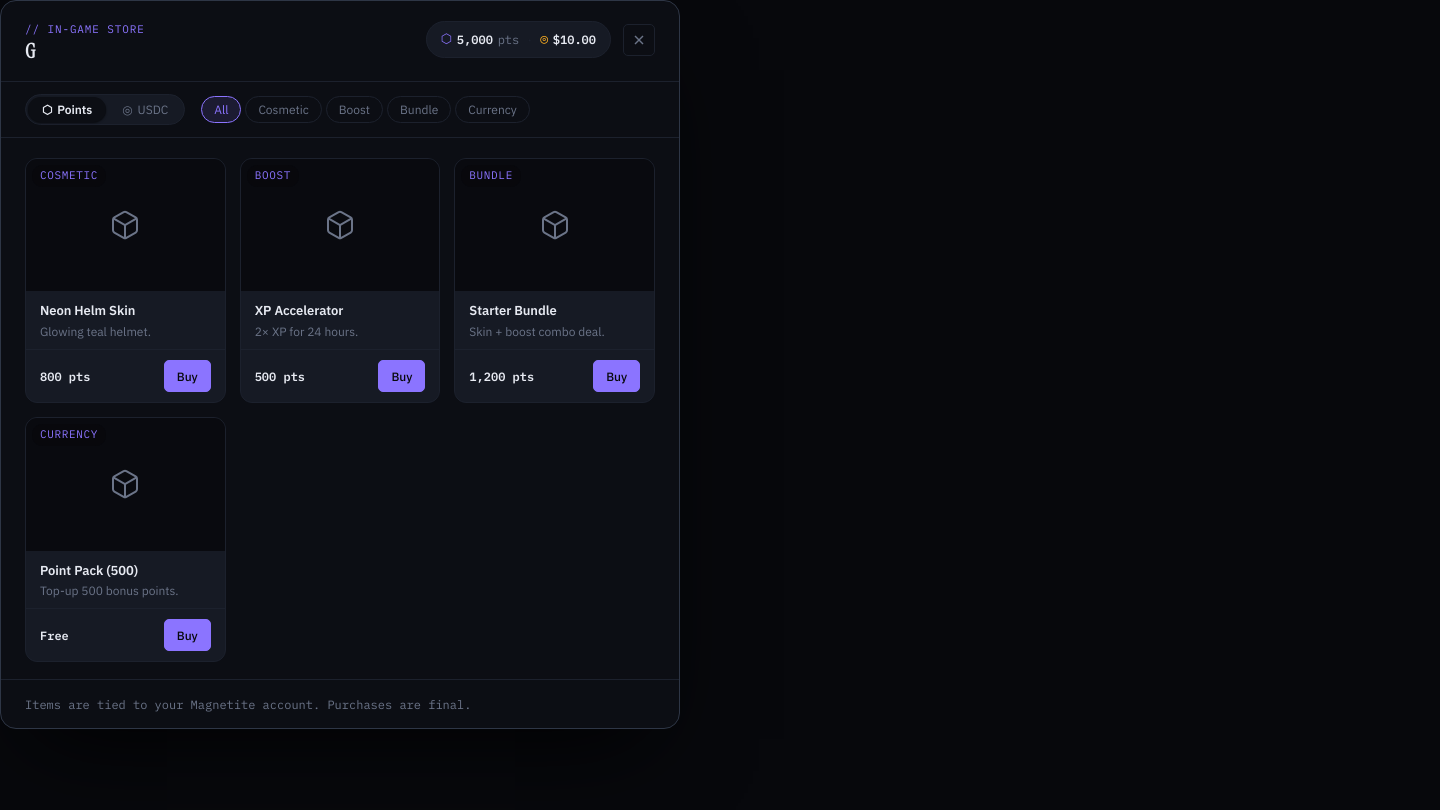
Test: InGameStore › shows all items when "All" filter is selected
Filter to boost first, then reset
Click the button "Boost". click: (354, 110)
box: [326,96,383,123]
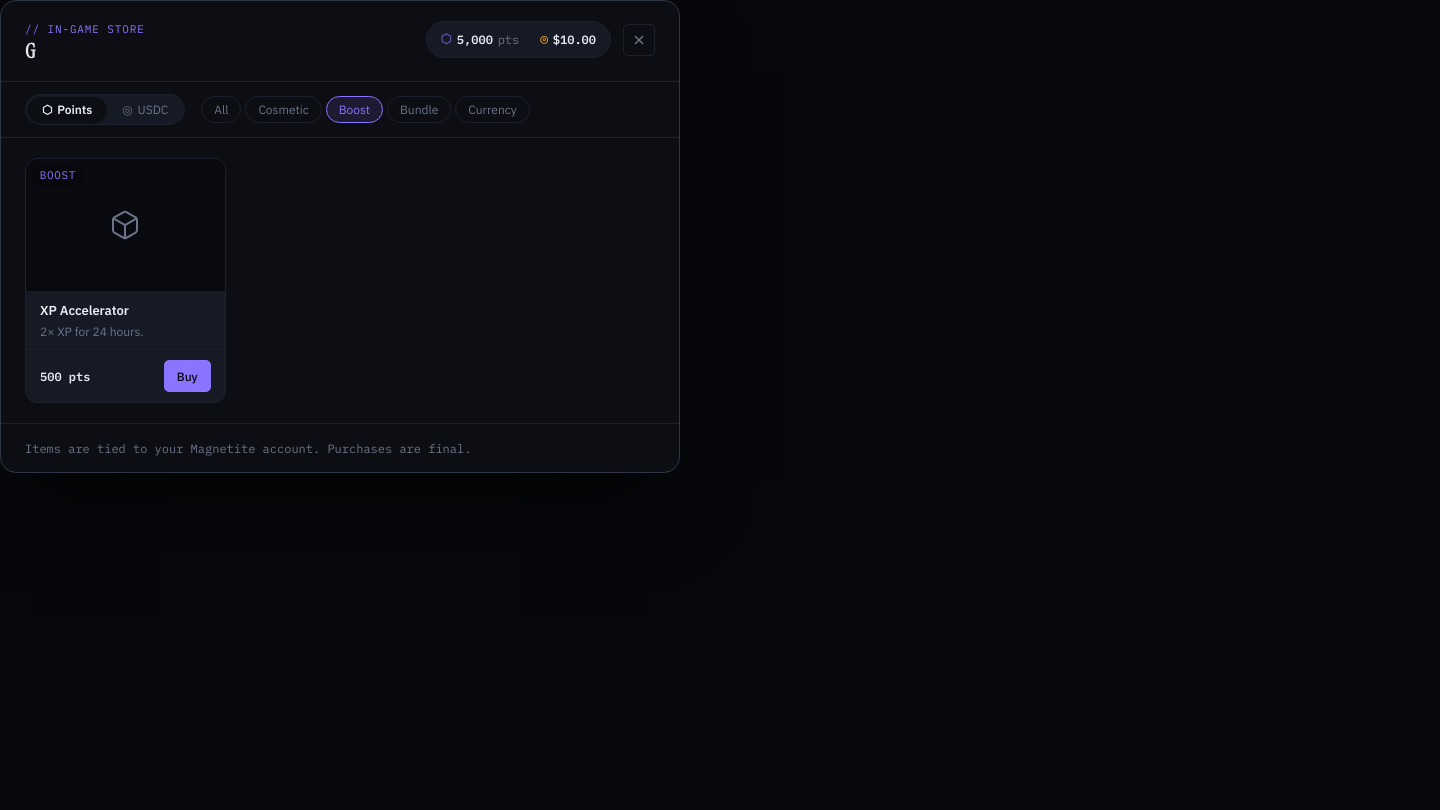
Click the button "All". click: (221, 110)
box: [201,96,241,123]
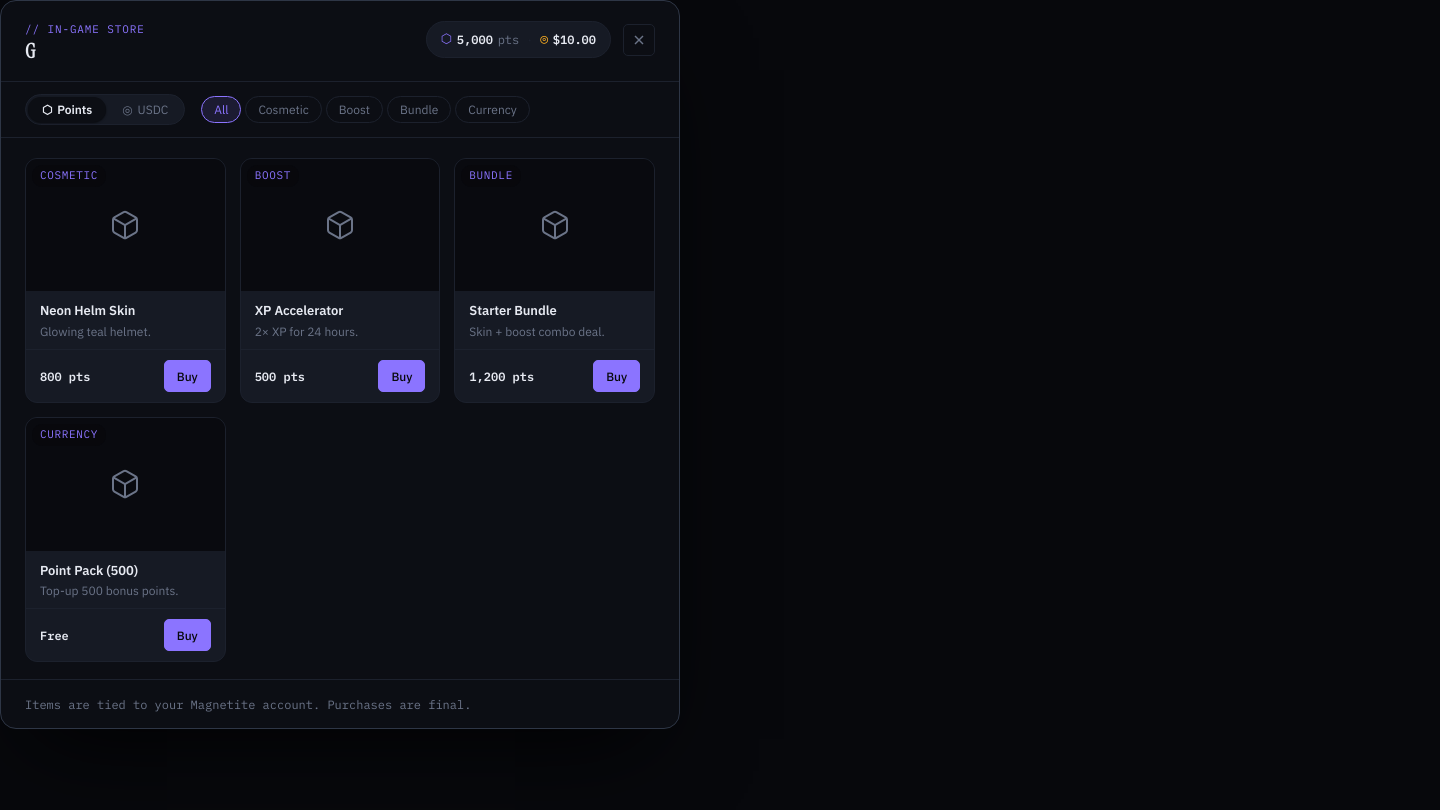
Expected: the heading "XP Accelerator" is shown, [255,302,343,319]
Result: the heading "Neon Helm Skin" is shown at [40,302,135,319]
